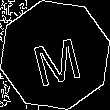M_N: (27, 25, 83, 85)
